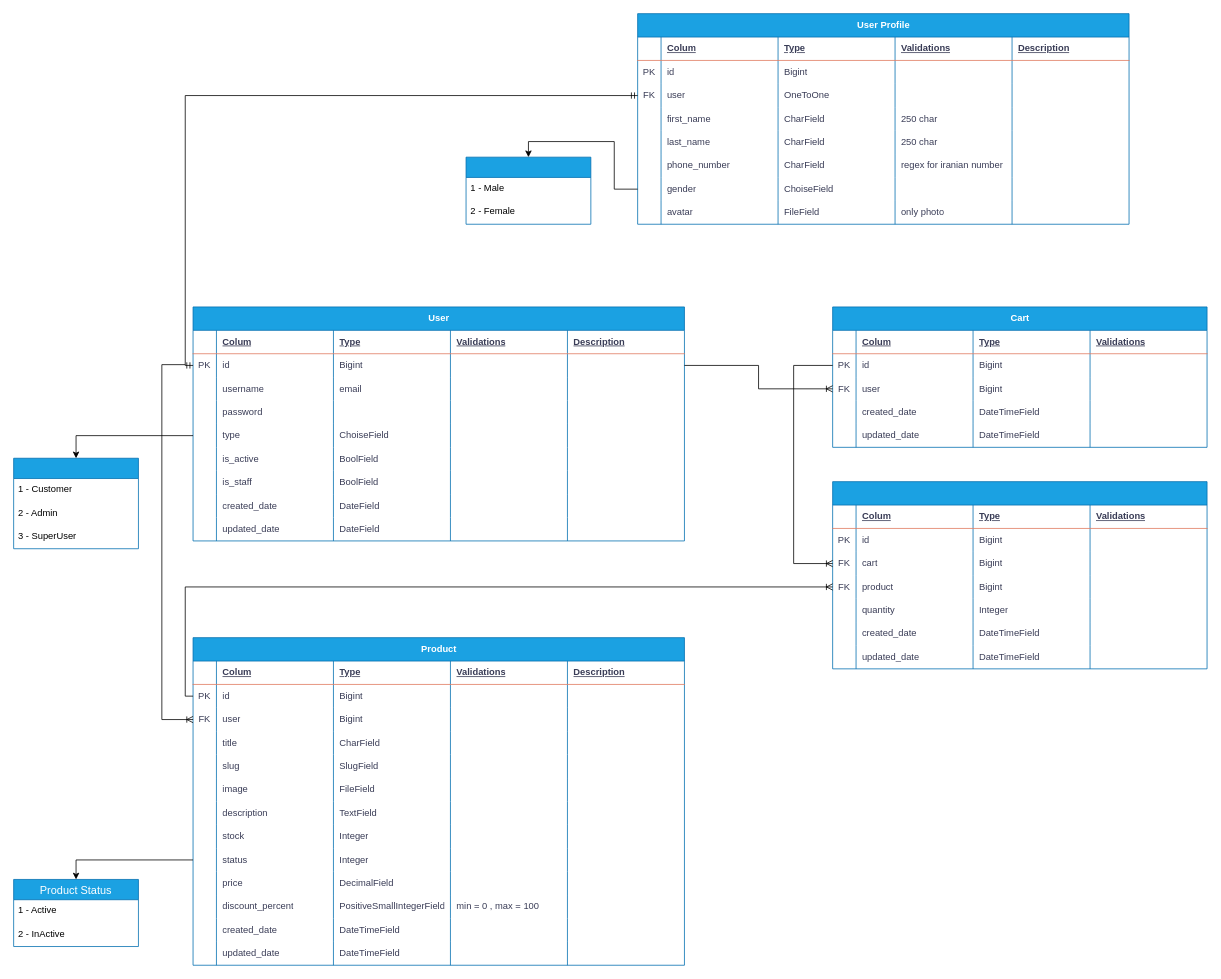
Image size: 1221x979. Some labels were removed from this diagram. Here are the shapes that lost their labels. From the top down, the box of each, then its label:
(465, 156, 591, 224): Genders
(13, 457, 138, 549): User Types
(832, 481, 1207, 669): Cart Item
